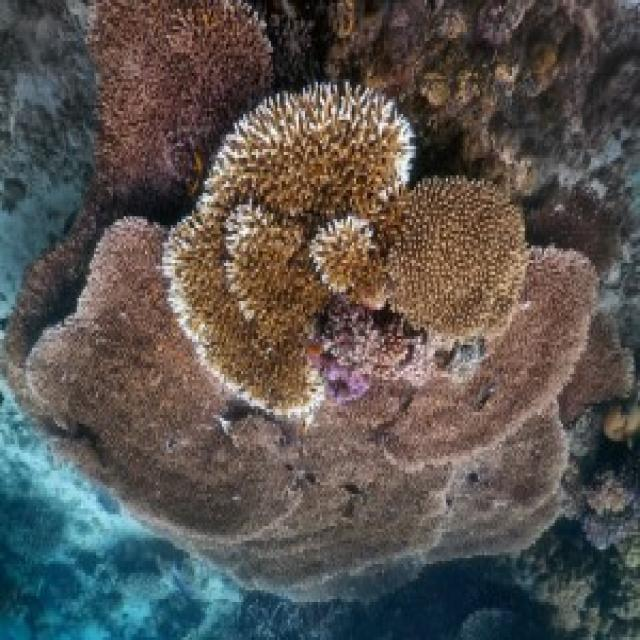Bleached: (156, 73, 419, 443), (385, 170, 535, 348)
Healthy: (97, 1, 208, 172), (87, 336, 188, 485)
